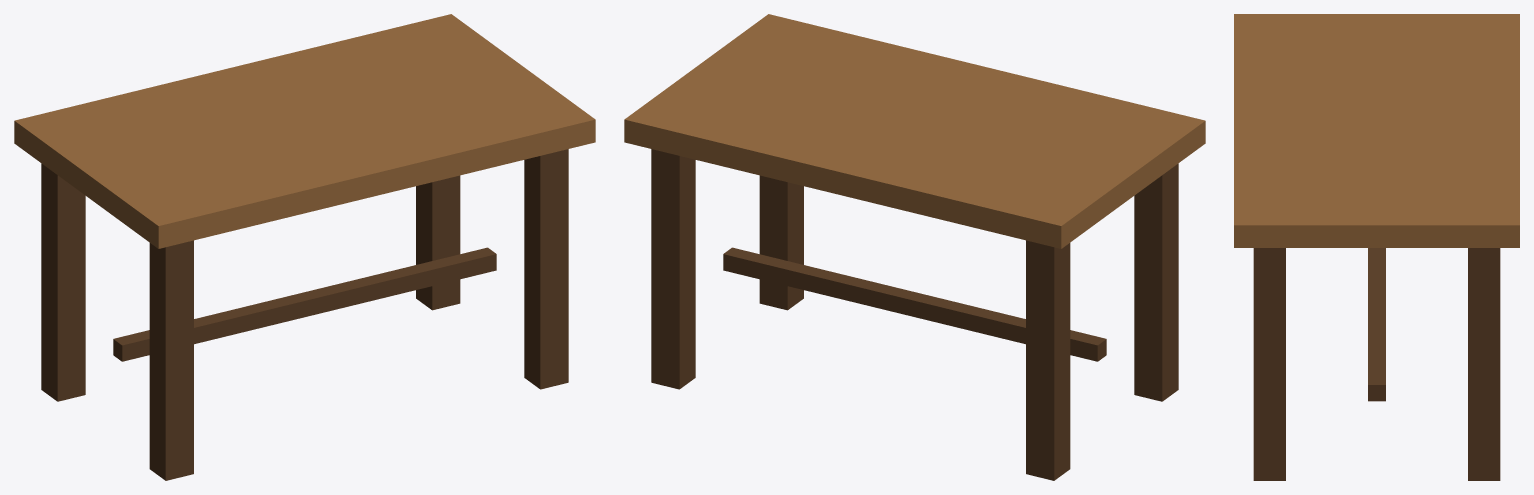
Rendered from table_1.glb.
3 views of the same model, side by side, from view 1: azimuth 30°, elevation 25°; view 2: azimuth 150°, elevation 25°; view 3: azimuth 270°, elevation 25° (orthographic).
Parts seen in each view (by area): view 1: table_1; view 2: table_1; view 3: table_1.
Boxes of the visible parts, x1=… form: table_1: x1=14, y1=14, x2=595, y2=480; table_1: x1=624, y1=14, x2=1205, y2=480; table_1: x1=1234, y1=14, x2=1519, y2=480.
Size of what is drawn, in the model's own units: 1.4 by 0.815 by 0.8.
